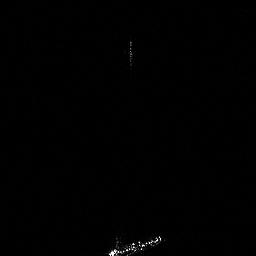ship: (104, 233, 164, 256)
